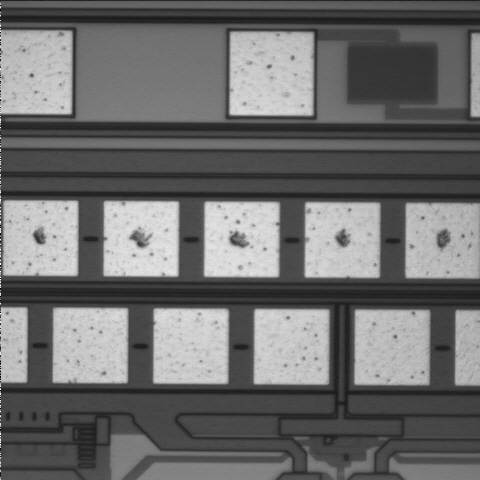pad: (230, 32, 313, 115), (104, 201, 179, 276), (204, 202, 279, 277), (53, 308, 128, 383), (254, 309, 329, 384), (4, 201, 78, 276), (305, 203, 379, 277), (154, 309, 228, 383), (355, 310, 429, 384)
